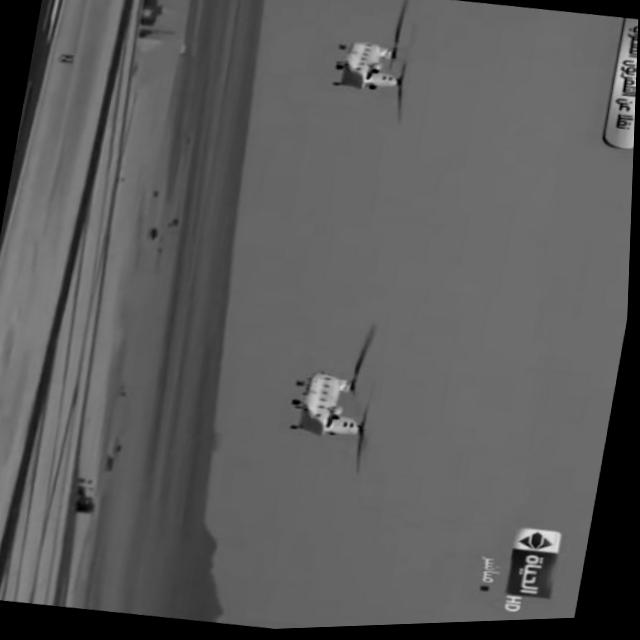helikopter: (264, 315, 404, 472), (316, 5, 434, 128)
